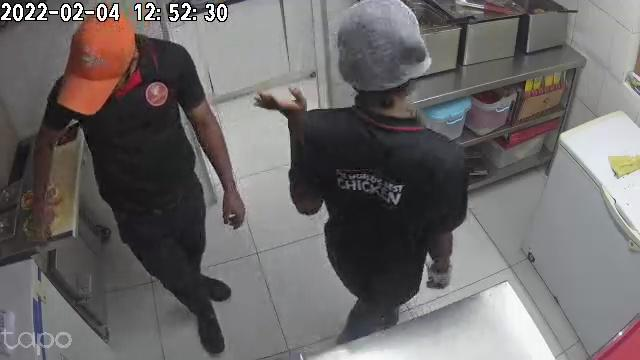no_gloves: (217, 176, 246, 230)
